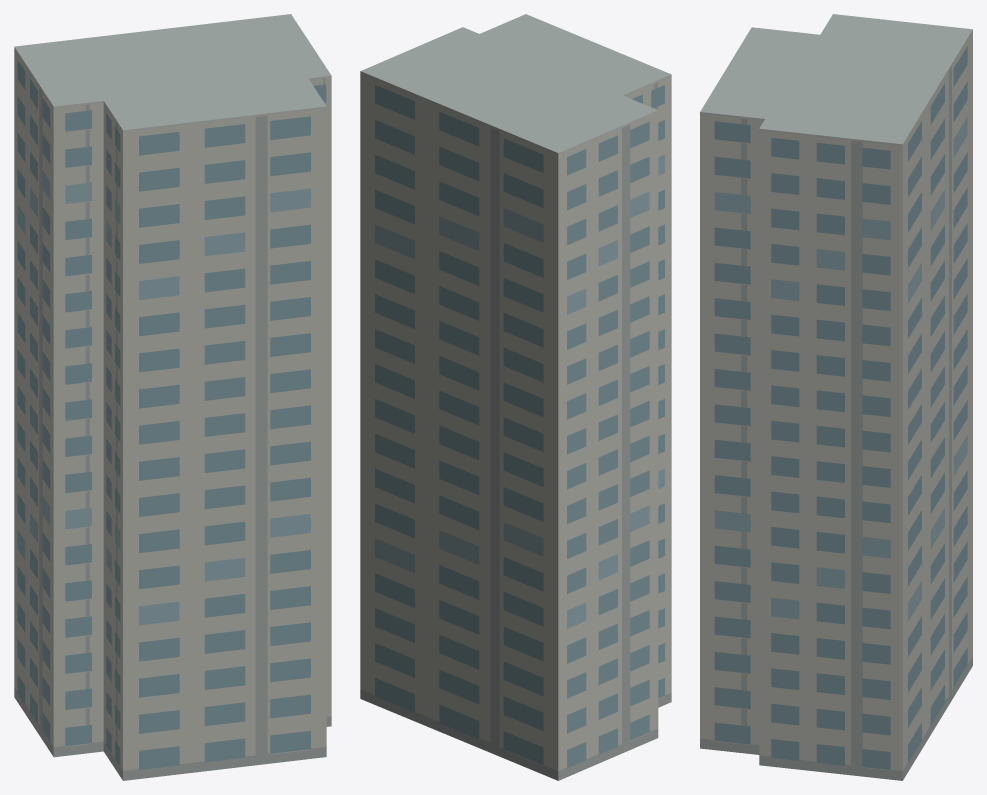
File: residential-072e52e9-6f1b-4bb2-8576-dcc4032a11b4.glb
3 views of the same model, side by side, from view 1: azimuth 30°, elevation 25°; view 2: azimuth 150°, elevation 25°; view 3: azimuth 270°, elevation 25° (orthographic). The views are drawn at different scales.
Parts seen in each view (by area): view 1: residential-072e52e9-6f1b-4bb2-8576-dcc4032a11b4.tmp; view 2: residential-072e52e9-6f1b-4bb2-8576-dcc4032a11b4.tmp; view 3: residential-072e52e9-6f1b-4bb2-8576-dcc4032a11b4.tmp.
Boxes of the visible parts, left/top/right/bottom form: residential-072e52e9-6f1b-4bb2-8576-dcc4032a11b4.tmp: left=14, top=14, right=331, bottom=780; residential-072e52e9-6f1b-4bb2-8576-dcc4032a11b4.tmp: left=360, top=14, right=671, bottom=780; residential-072e52e9-6f1b-4bb2-8576-dcc4032a11b4.tmp: left=700, top=14, right=972, bottom=780.
Size of the model in its own units: 30.74 by 70 by 27.2.
